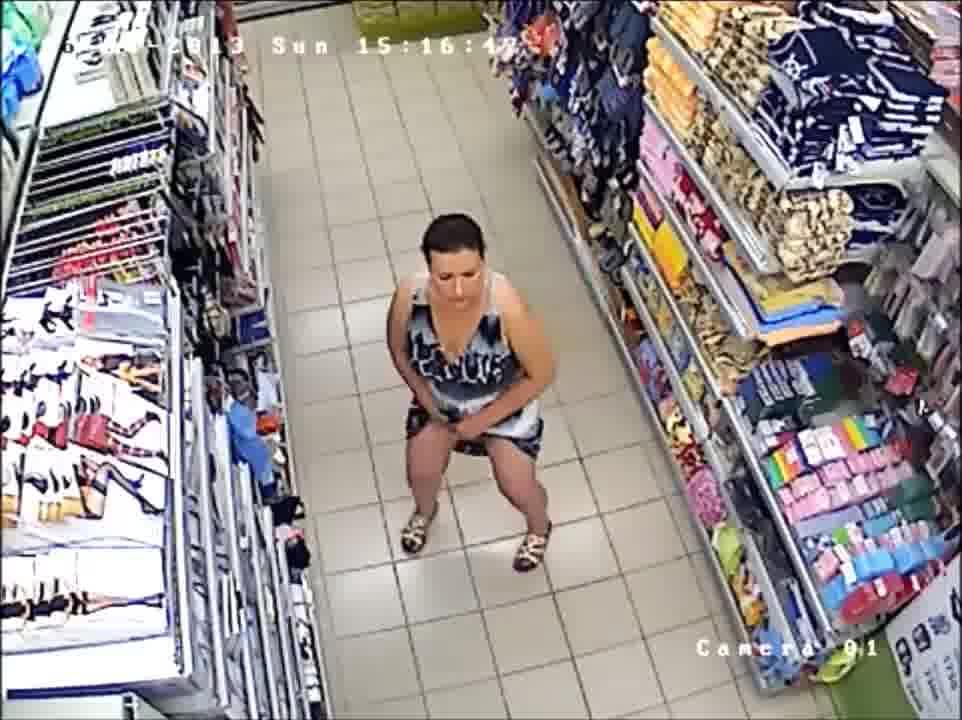shoplifting: (386, 208, 563, 581)
